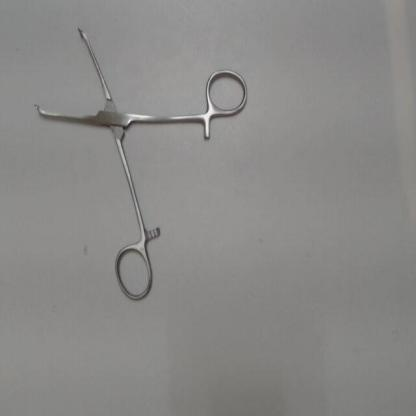Allis Tissue Forceps: (23, 16, 257, 310)
